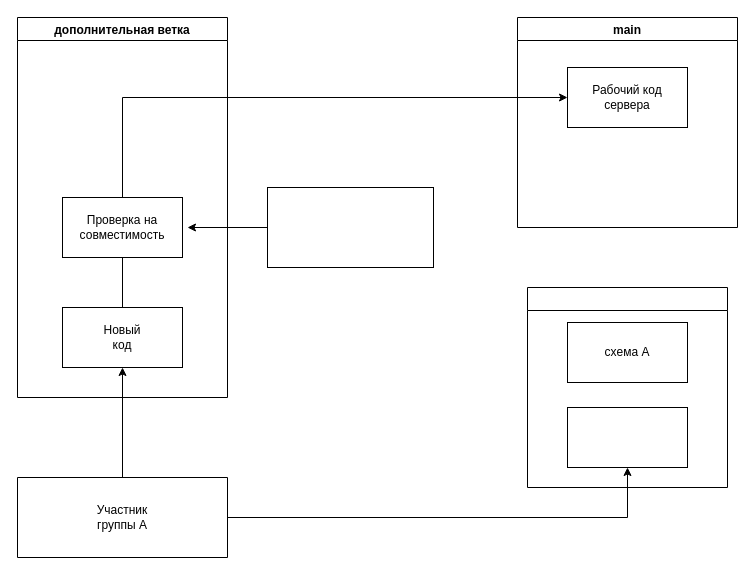
Image size: 755x575. Some labels were removed from this diagram. Here are the shapes that lost their labels. From the top down, the box of each, then its label:
(266, 186, 434, 268): Остальные участники группы
(526, 286, 728, 488): schems
(566, 406, 688, 468): Схема Б
